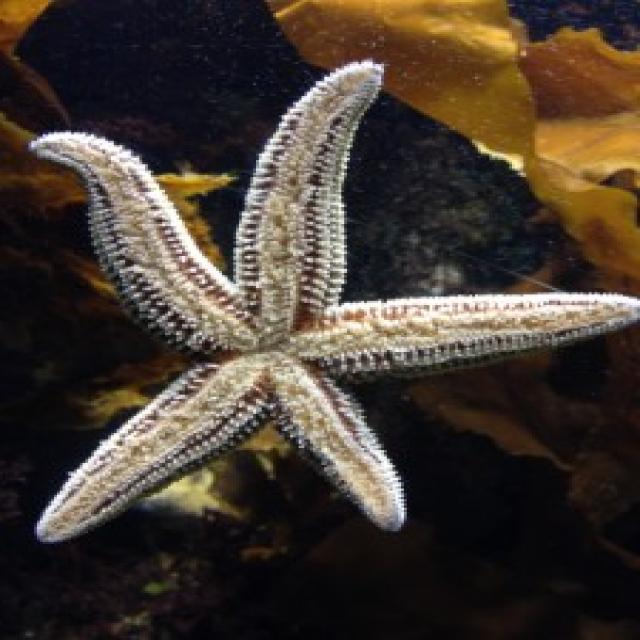Starfish: (21, 53, 636, 556)
